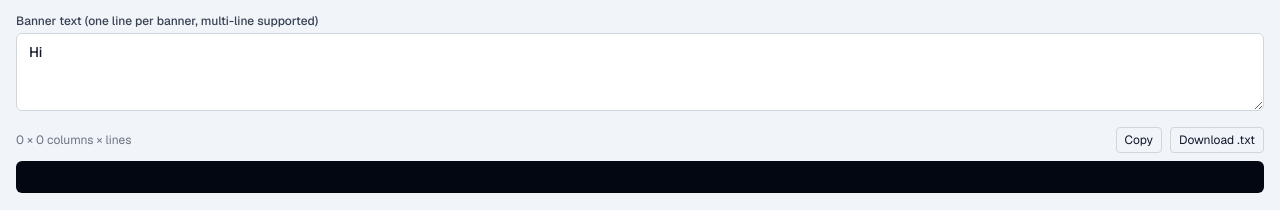
Test case: Canvas › flips copy label to Copied! after clicking
The image size is (1280, 210).
Click the button with test id "btn-copy-banner" at [1139, 140], box top-left (1116, 127), bottom-right (1162, 153)
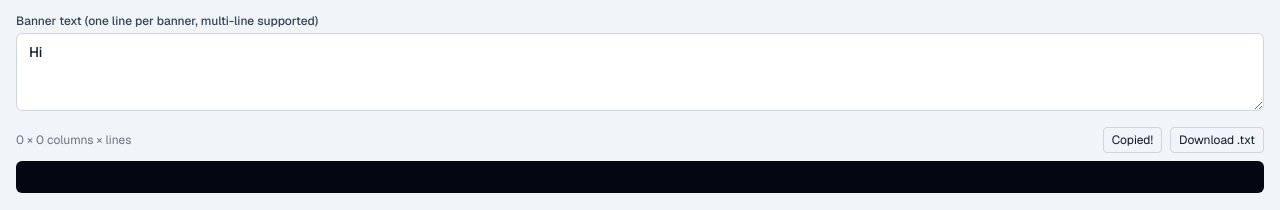
Result: the button with test id "btn-copy-banner" reads "Copied!" at top-left (1103, 127), bottom-right (1162, 153)
